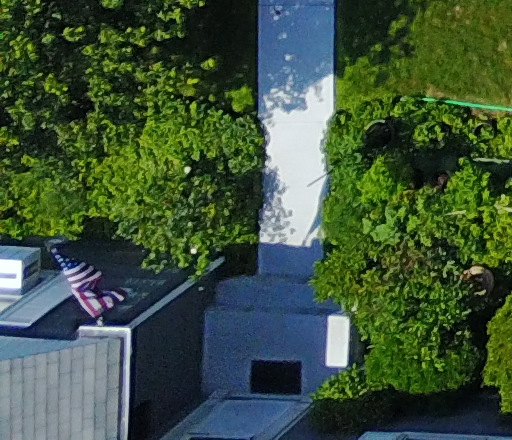pot: (460, 257, 498, 305)
